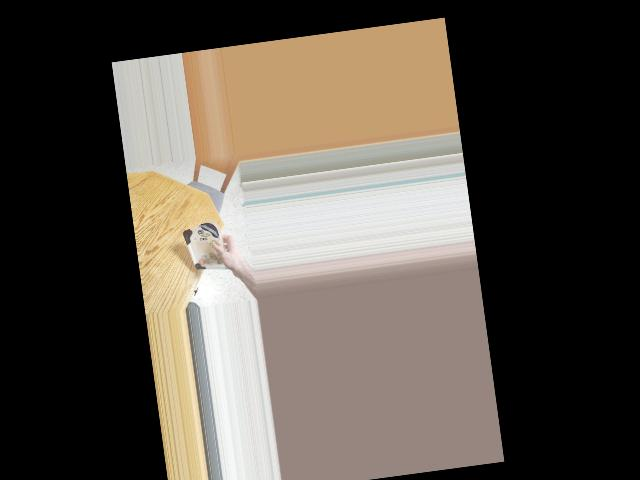cheese: (184, 218, 231, 282)
